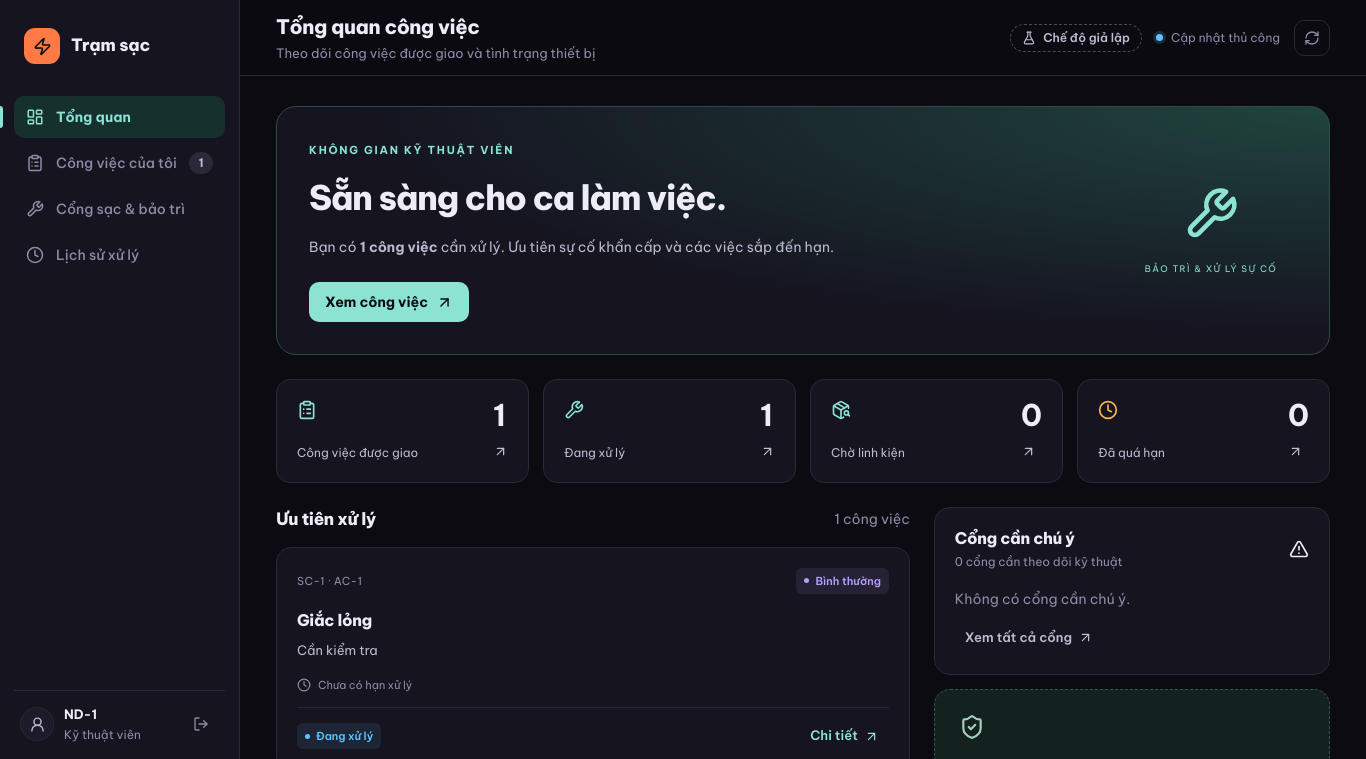
Test: Authenticated UI › refreshes detail and history after technician saves a status
Expected: the heading "Giắc lỏng" is shown, [297,610,372,630]
Click the button "Công việc của tôi 1": {"x": 120, "y": 163} [14,142,225,184]
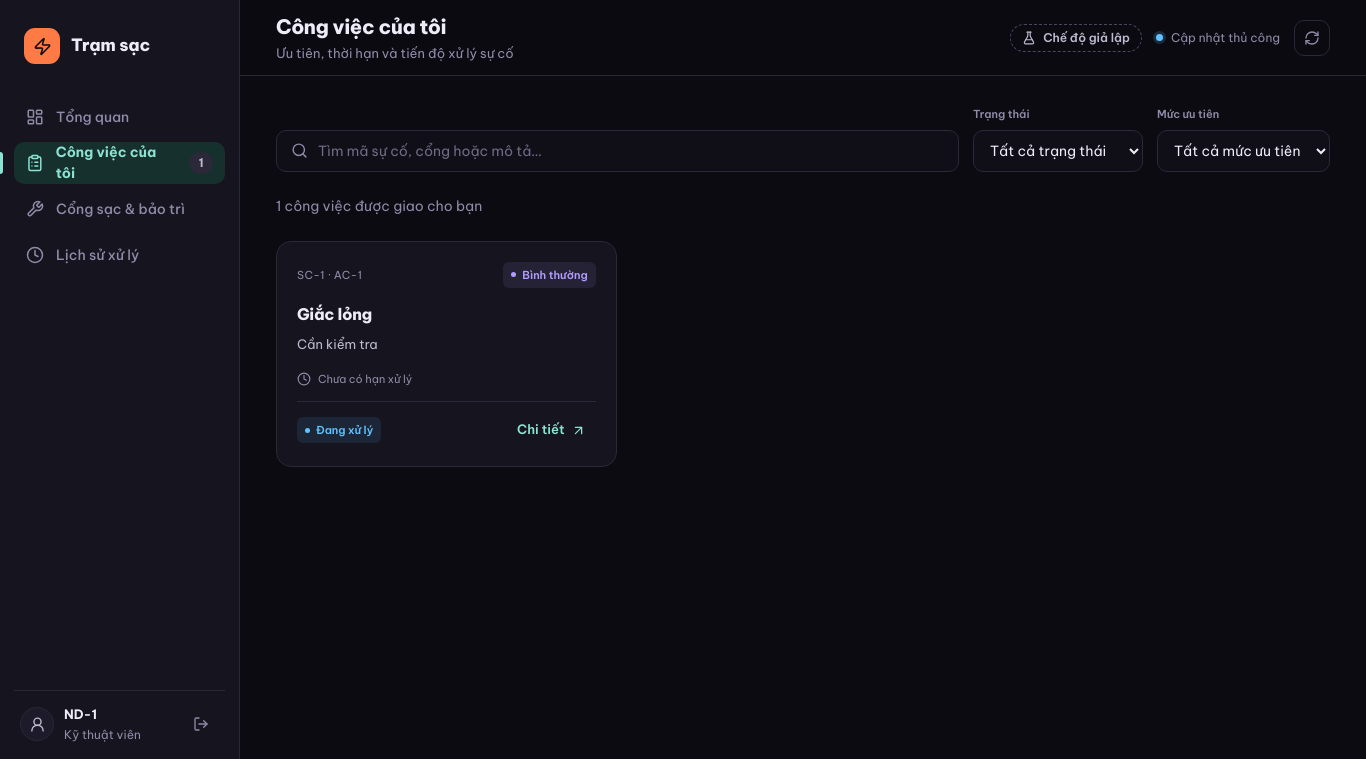
Click the button "Chi tiết": {"x": 551, "y": 430} [507,414,596,446]
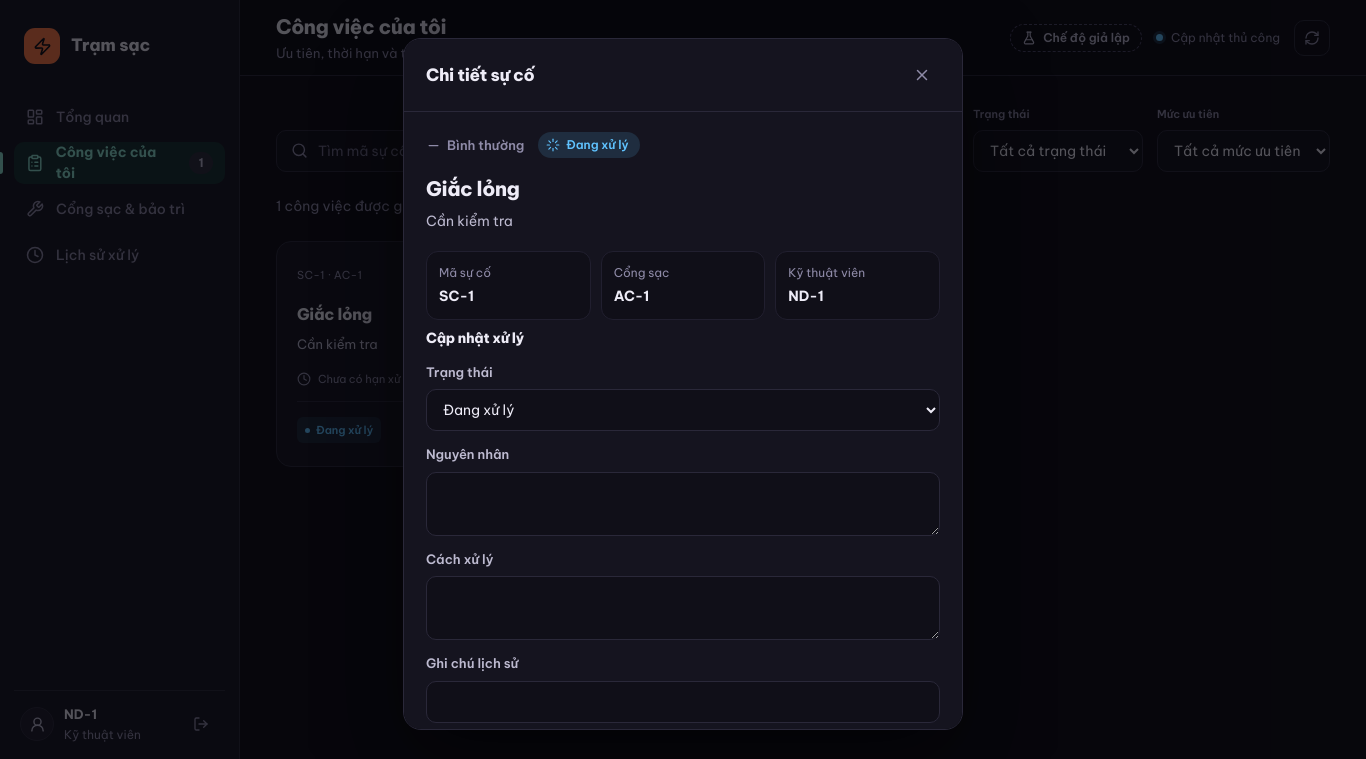
Select "Chờ linh kiện" in the dropdown: {"x": 683, "y": 410} [426,389,940,431]
(page scrolled)
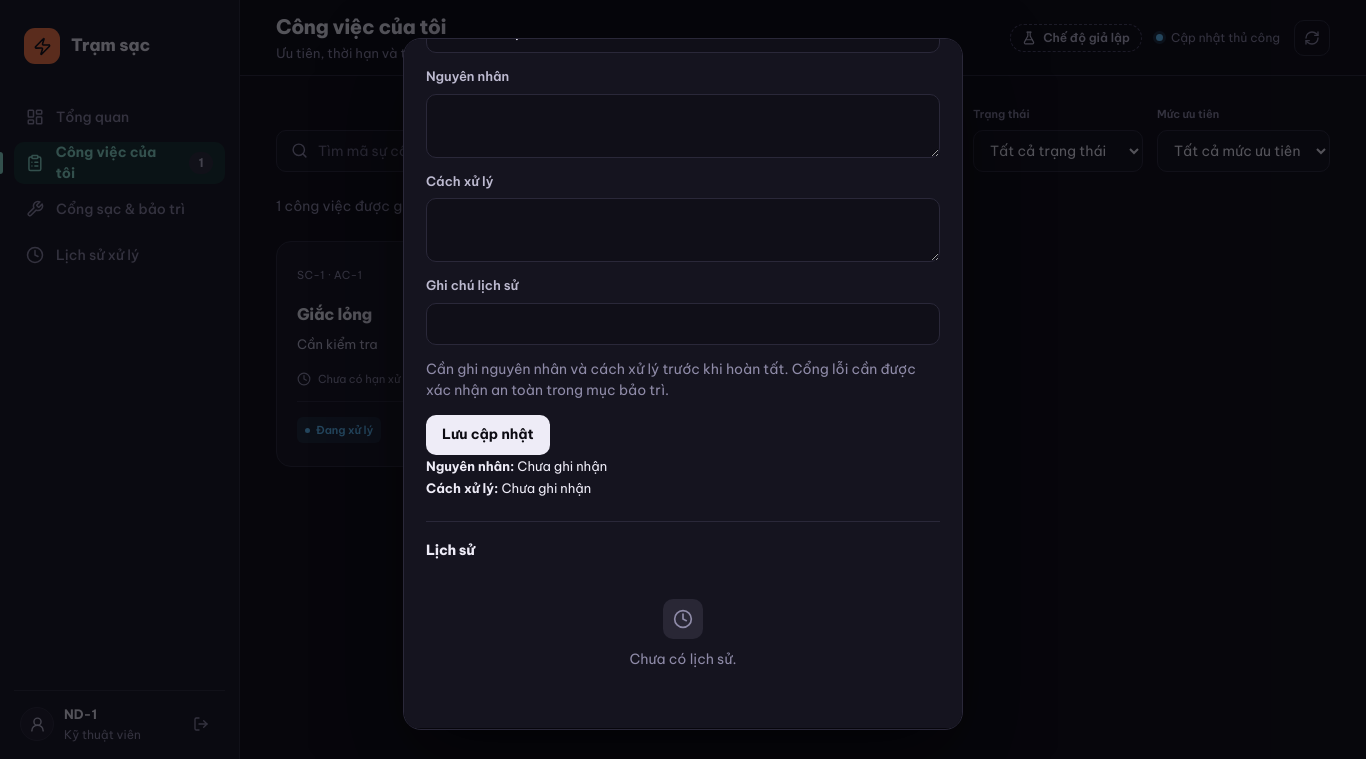
Click the button "Lưu cập nhật": {"x": 488, "y": 435} [426,415,550,455]
(page scrolled)
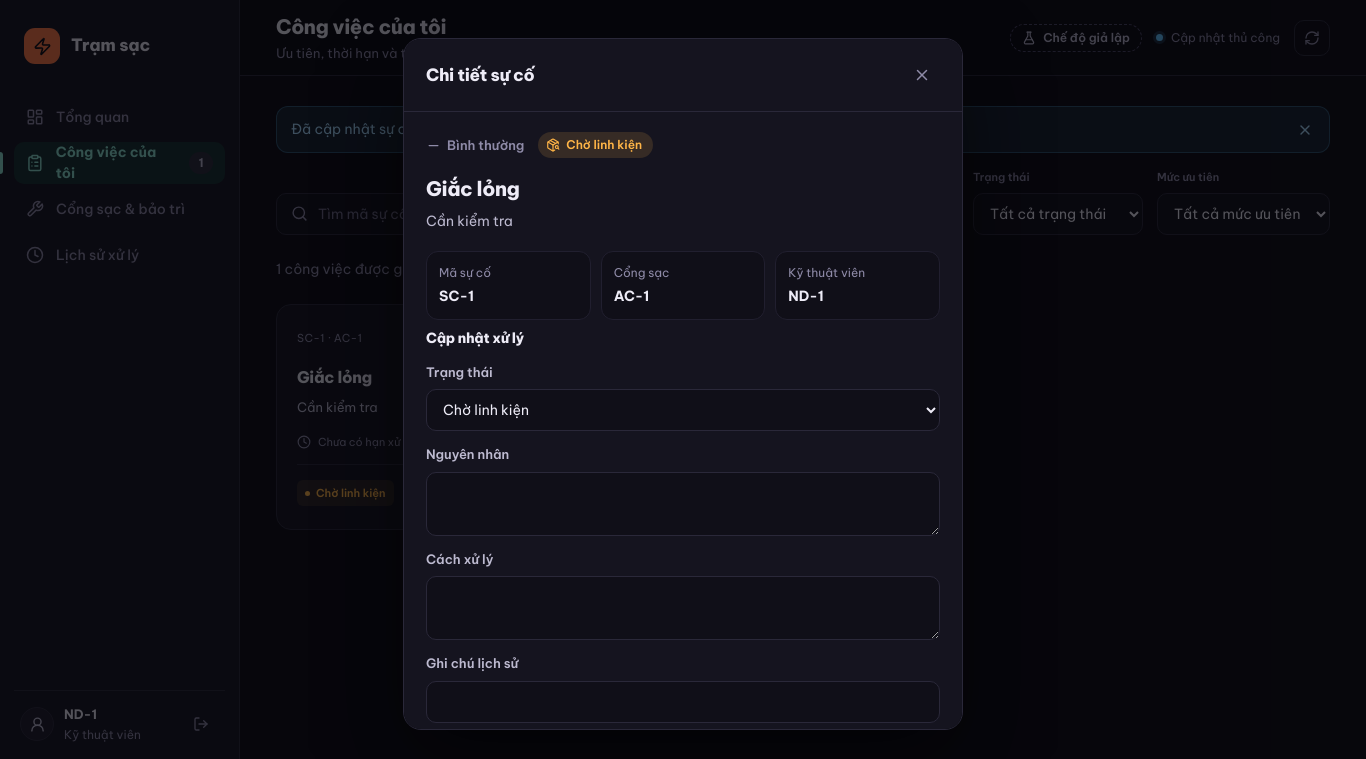
Expected: the text "Chờ linh kiện" is shown, [538,132,653,158]
